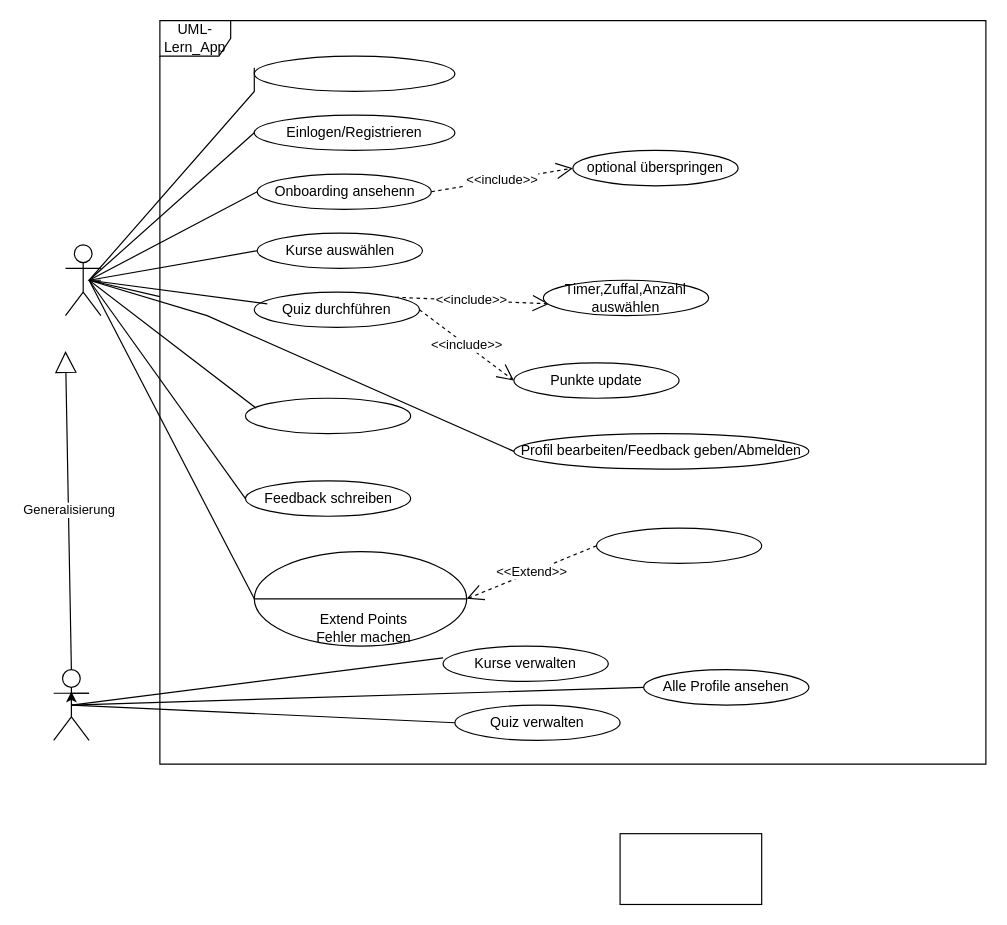
The diagram is 1007 pixels wide and 925 high, and some of its shapes have lost their labels. The box of each missing label's shape, as (x1, y1, x2, y2) in pixels:
<<Actor>> FireBase (Auth & DB) <Externes System>: (619, 832, 762, 904)
Admin/LehrKraft: (53, 668, 89, 740)
App starten: (253, 55, 455, 91)
Fehler ansehen: (253, 550, 467, 646)
Fehler machen: (595, 527, 762, 563)
Lernender: (64, 244, 101, 316)
Notizen verwalten: (244, 397, 411, 434)
